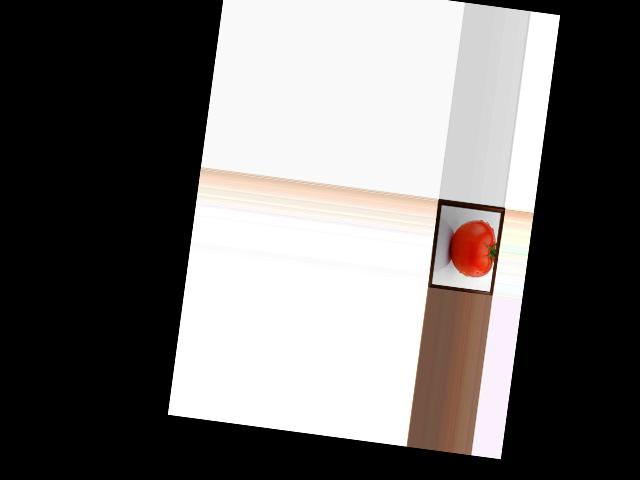tomato: (446, 216, 499, 279)
